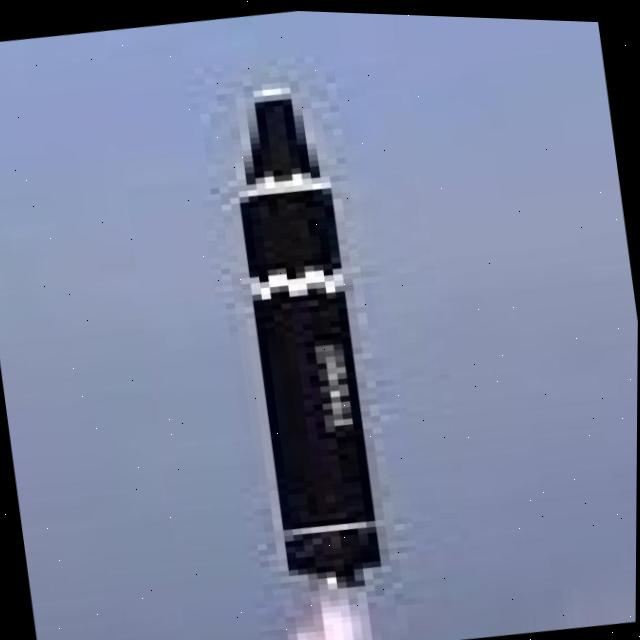missile: (219, 73, 402, 589)
